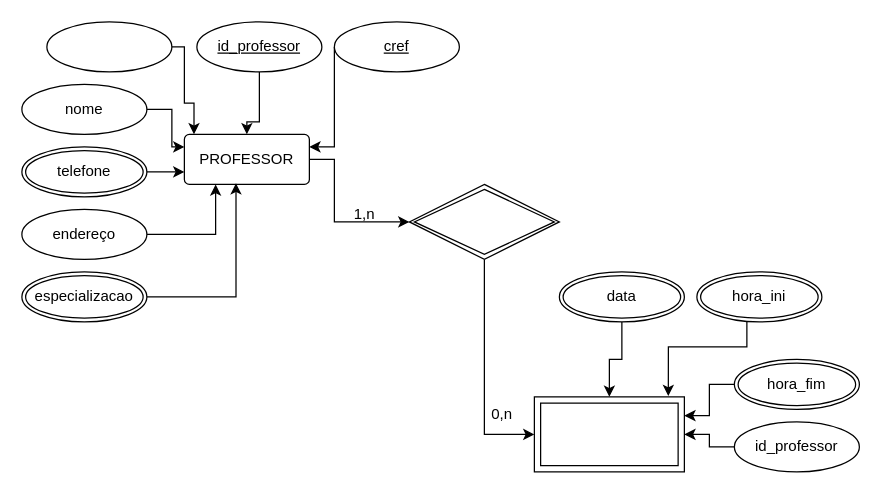
Image size: 881x494. Some labels were removed from this diagram. Each missing label, with the centre of its shape:
Agenda: point 608,434
cpf: point 109,46
Escalado: point 483,221
